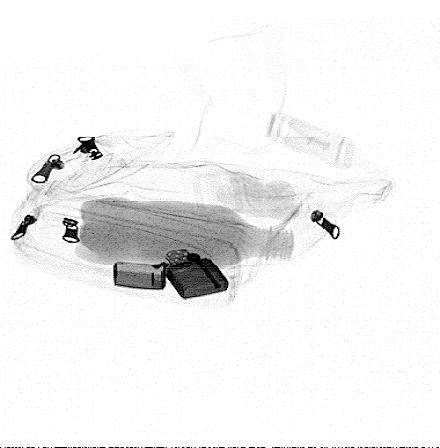Lighter: (113, 248, 229, 300)
